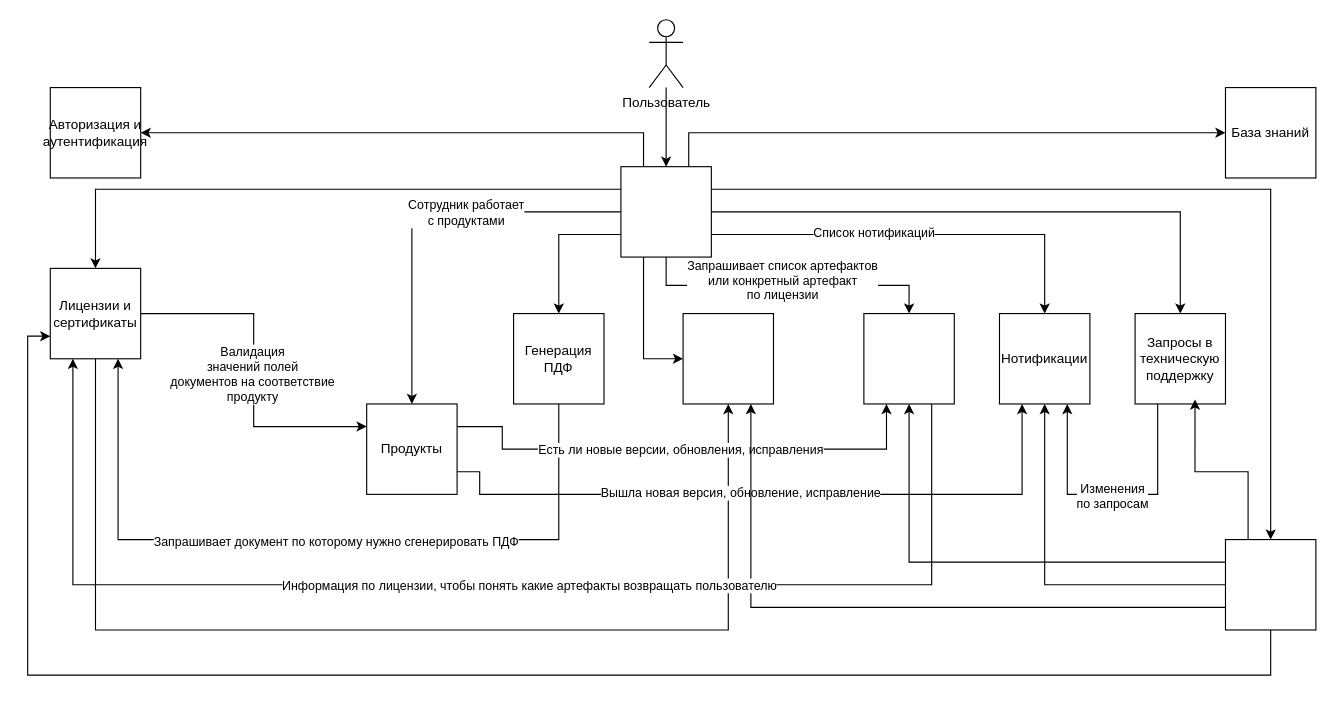
The diagram is 1336 pixels wide and 704 high, and some of its shapes have lost their labels. Each missing label, with the box of its shape:
API Gateway: (620, 166, 711, 257)
Организации: (682, 312, 773, 404)
Отчёты: (1224, 538, 1316, 630)
Сервис работы с S3: (863, 312, 954, 404)
